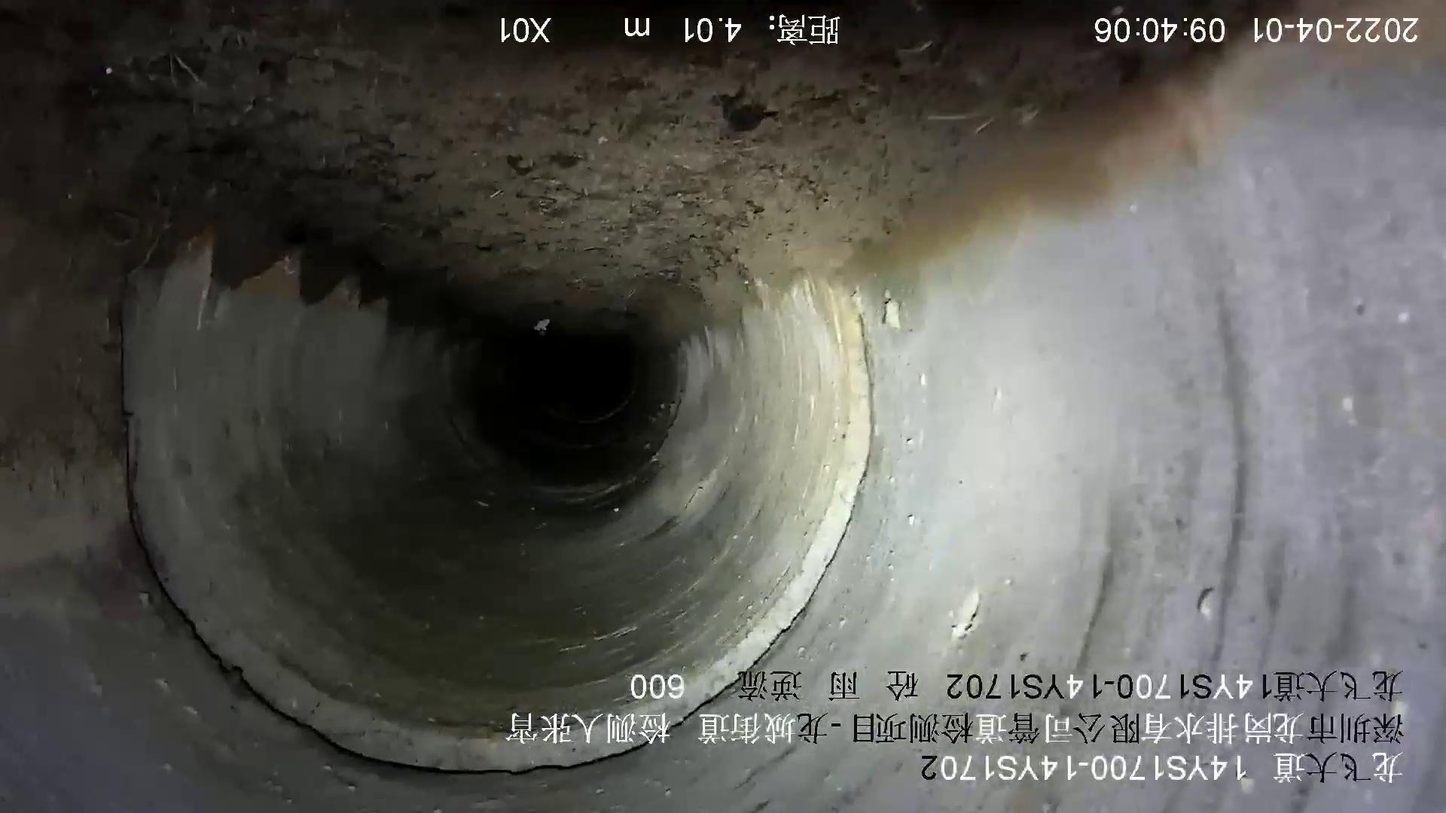CJ: (80, 1, 1248, 333)
CKTJ: (137, 305, 871, 772)
